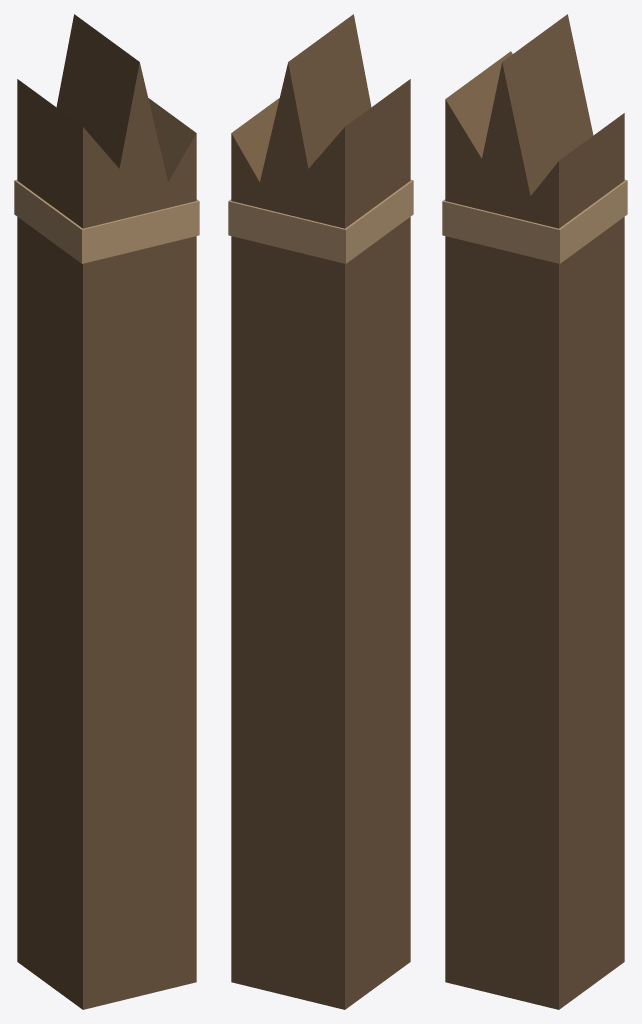
The model's file is TW_WOOD_END_BROKEN_A_LOD0.glb.
3 views of the same model, side by side, from view 1: azimuth 30°, elevation 25°; view 2: azimuth 150°, elevation 25°; view 3: azimuth 330°, elevation 25° (orthographic).
Parts seen in each view (by area): view 1: TW_WOOD_END_BROKEN_A_LOD0; view 2: TW_WOOD_END_BROKEN_A_LOD0; view 3: TW_WOOD_END_BROKEN_A_LOD0.
Boxes of the visible parts, left/top/right/bottom form: TW_WOOD_END_BROKEN_A_LOD0: left=14, top=14, right=199, bottom=1009; TW_WOOD_END_BROKEN_A_LOD0: left=228, top=14, right=413, bottom=1009; TW_WOOD_END_BROKEN_A_LOD0: left=442, top=14, right=627, bottom=1009.
Size of the model in its own units: 0.145 by 1.1 by 0.145.
1 material, 1 textured.
